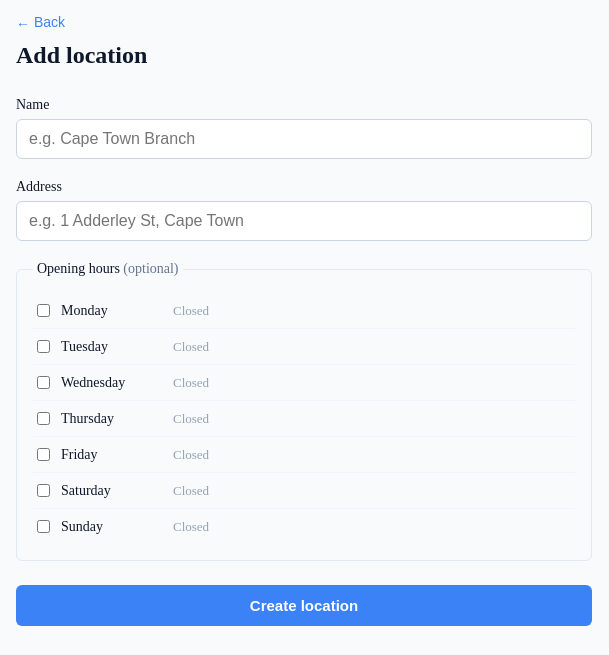
AddLocationView › enabling a day shows open/close time inputs
Click the checkbox with test id "toggle-monday": [44, 310] box [37,304,50,317]
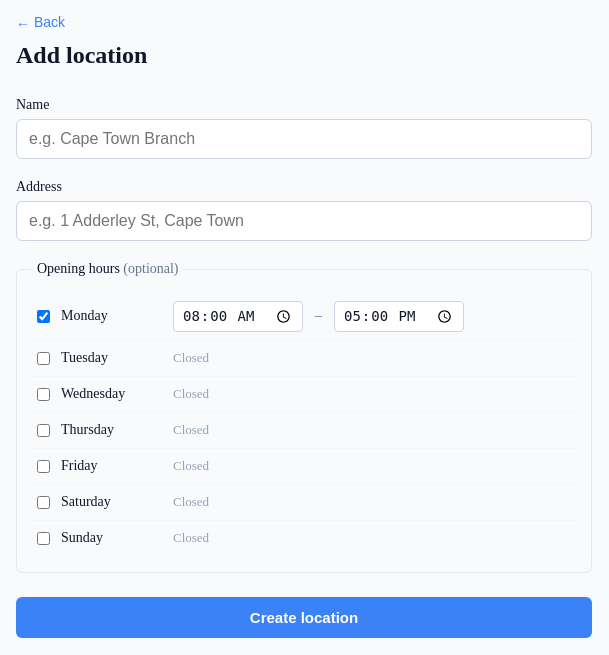
Check: the time field with test id "open-monday" is shown, box [173,301,303,332]
Check: the time field with test id "close-monday" is shown, box [334,301,464,332]
